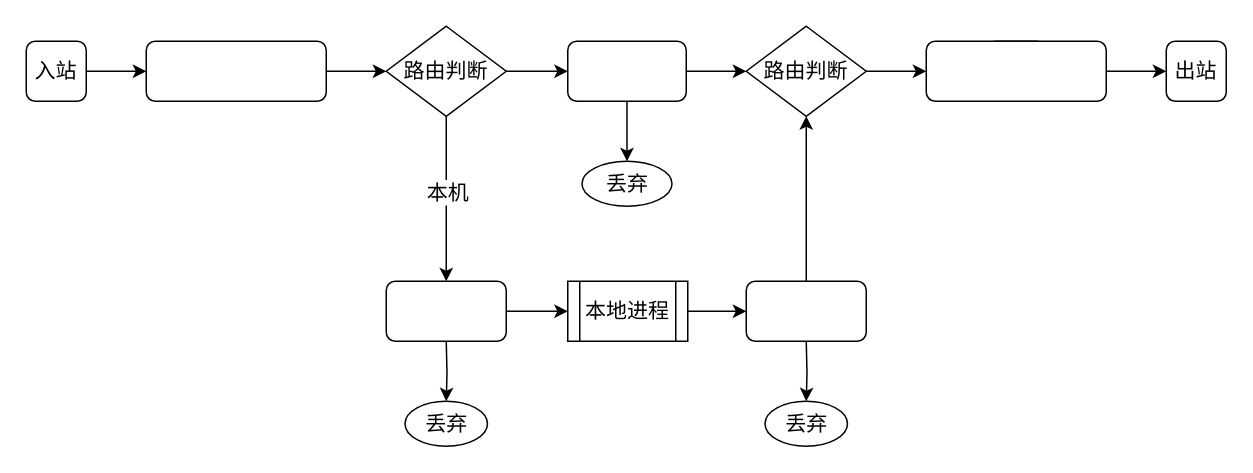
The diagram is 1253 pixels wide and 473 high, and some of its shapes have lost their labels. The centre of each missing label's shape, as x and y in pixels:
FORWARD 规则链: the point at 626,70
INPUT 规则链: the point at 445,310
OUTPUT 规则链: the point at 805,310
POSTROUTING 规则链: the point at 1015,70
PREROUTING 规则链: the point at 235,70
